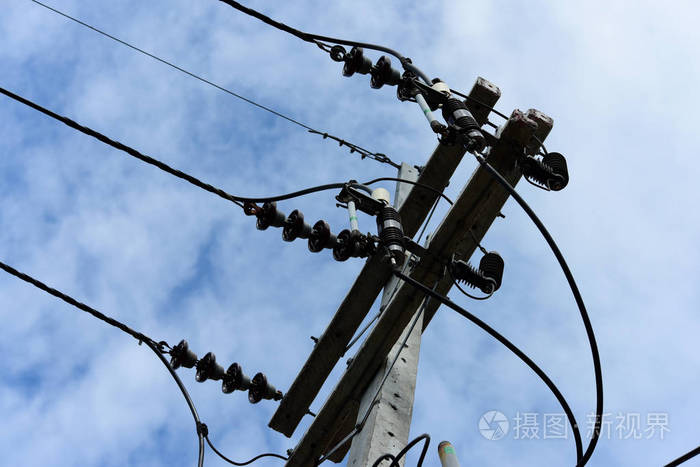insulator: (164, 337, 269, 405), (251, 197, 354, 261), (339, 43, 396, 94)
